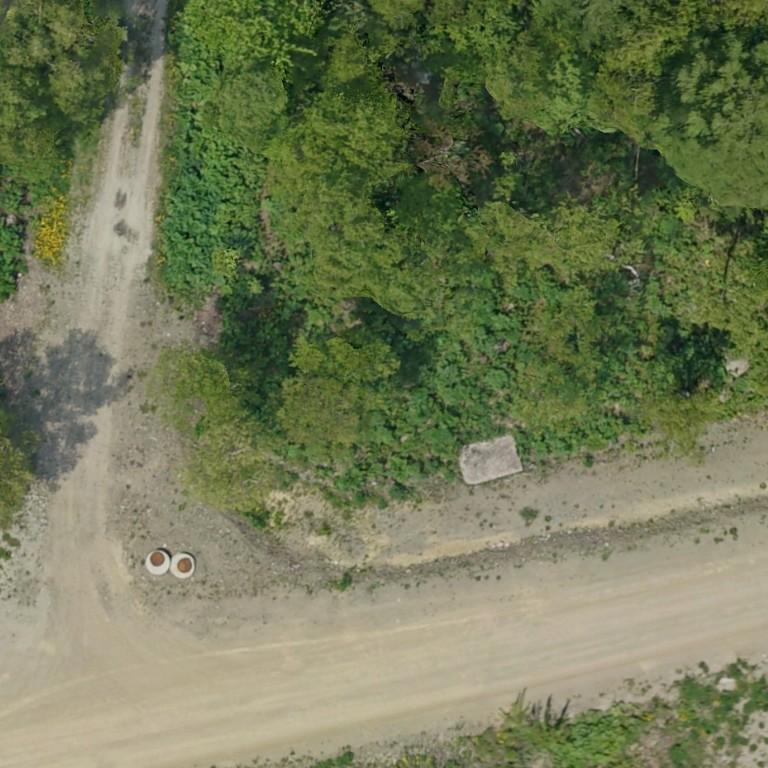hogweed: (342, 281, 616, 488), (162, 31, 267, 290)
